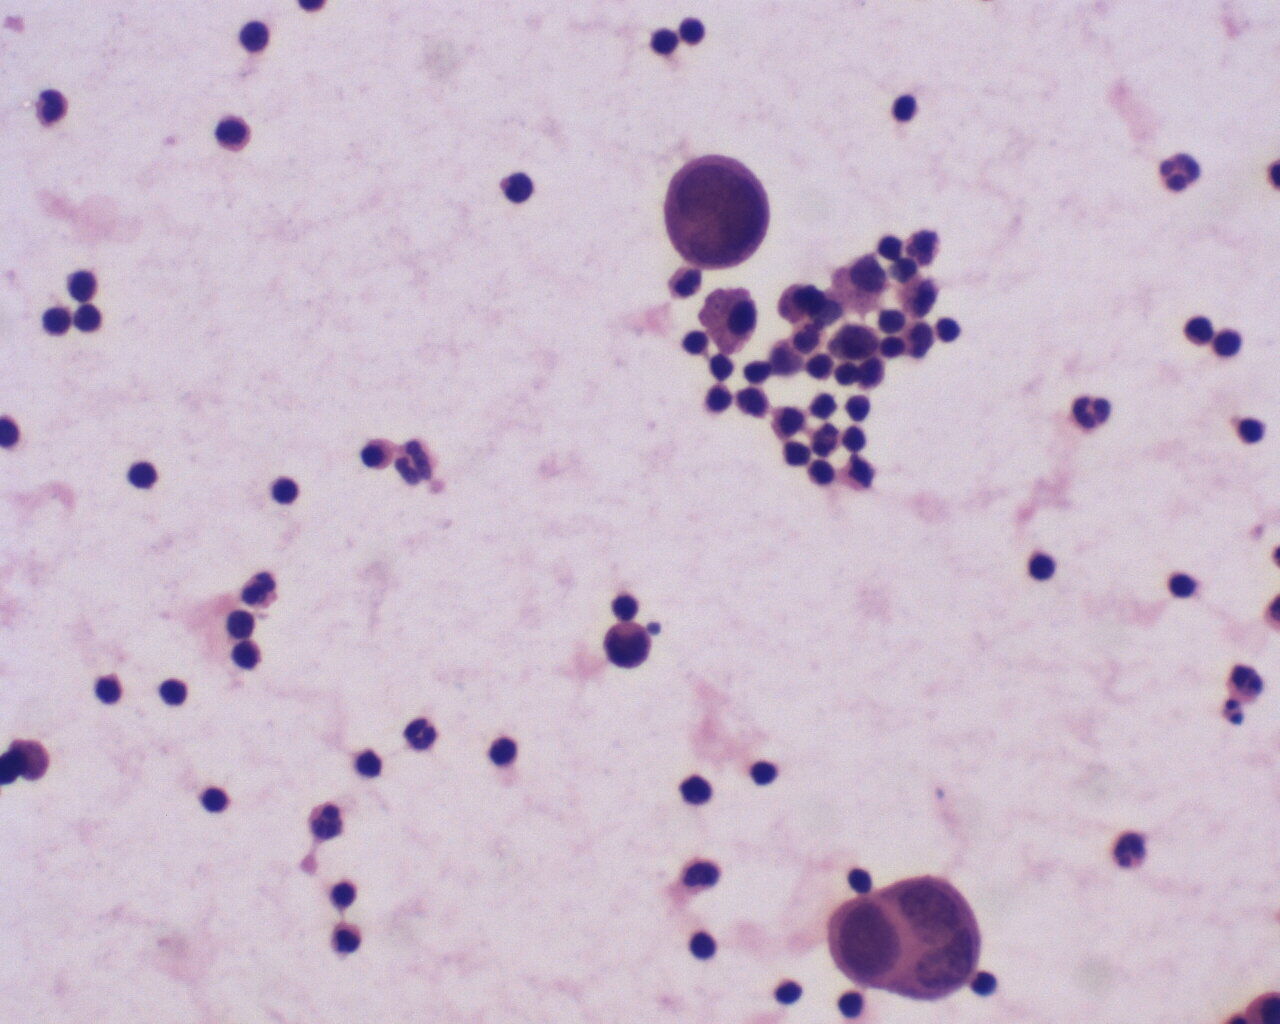ab: (661, 147, 774, 273), (601, 621, 653, 675)
lymph: (680, 927, 731, 972), (669, 766, 716, 809), (211, 109, 255, 154), (233, 18, 281, 55), (496, 165, 537, 208), (126, 456, 170, 495), (1021, 546, 1064, 586), (484, 731, 523, 773), (1230, 411, 1274, 448), (41, 296, 77, 339), (1180, 310, 1216, 352), (197, 778, 233, 820), (267, 468, 301, 512), (1159, 569, 1197, 606), (648, 23, 686, 60), (891, 85, 924, 127), (95, 670, 130, 708), (157, 676, 195, 711), (806, 457, 838, 488), (843, 393, 875, 423), (809, 390, 837, 422)
meso: (698, 281, 760, 359)
neutro: (1156, 148, 1205, 197), (306, 794, 351, 845), (1107, 827, 1150, 878), (1070, 389, 1114, 435), (238, 567, 279, 609), (404, 709, 439, 757), (328, 877, 367, 912)
